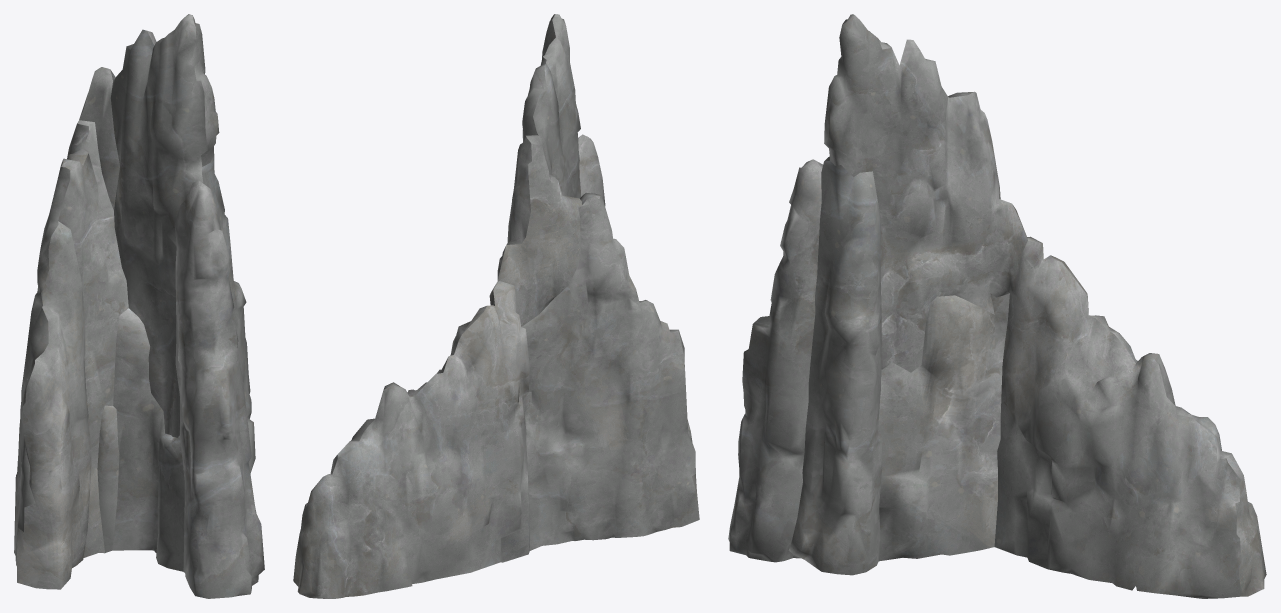
Rendered from SM_Com_Roc_76AL.fbx.
3 views of the same model, side by side, from view 1: azimuth 30°, elevation 25°; view 2: azimuth 150°, elevation 25°; view 3: azimuth 270°, elevation 25° (orthographic). The views are drawn at different scales.
Parts seen in each view (by area): view 1: SM_Com_Roc_76AL.mo; view 2: SM_Com_Roc_76AL.mo; view 3: SM_Com_Roc_76AL.mo.
Boxes of the visible parts, x1,y1,x2,y2 form: SM_Com_Roc_76AL.mo: (14,14,264,598); SM_Com_Roc_76AL.mo: (293,14,699,598); SM_Com_Roc_76AL.mo: (728,14,1266,598).
Size of the model in its own units: 92.14 by 173 by 157.
